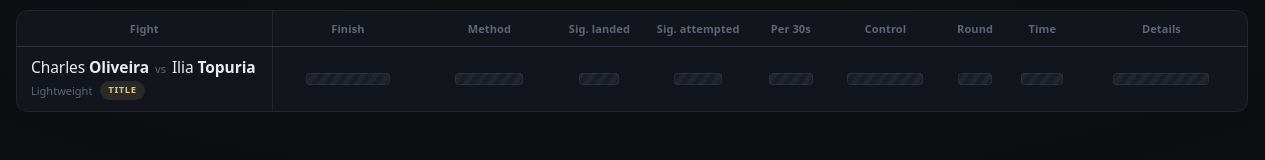
single-cell isolation — one variable per reveal › revealing details shows detail text and bonus, not the method
Click the button named "reveal details —": (1161, 79) [1076,56,1247,102]
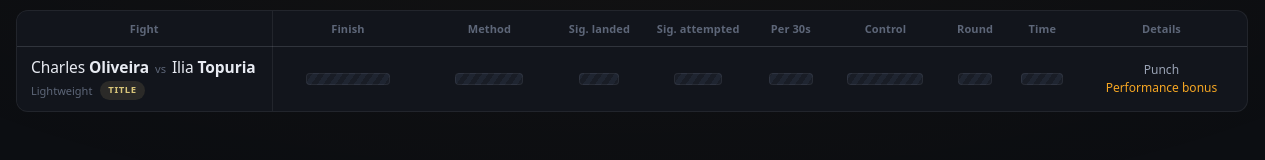
expect the text "Punch" is shown: met, box [1144,62,1179,78]
expect the text "Performance bonus" is shown: met, box [1106,80,1217,96]
